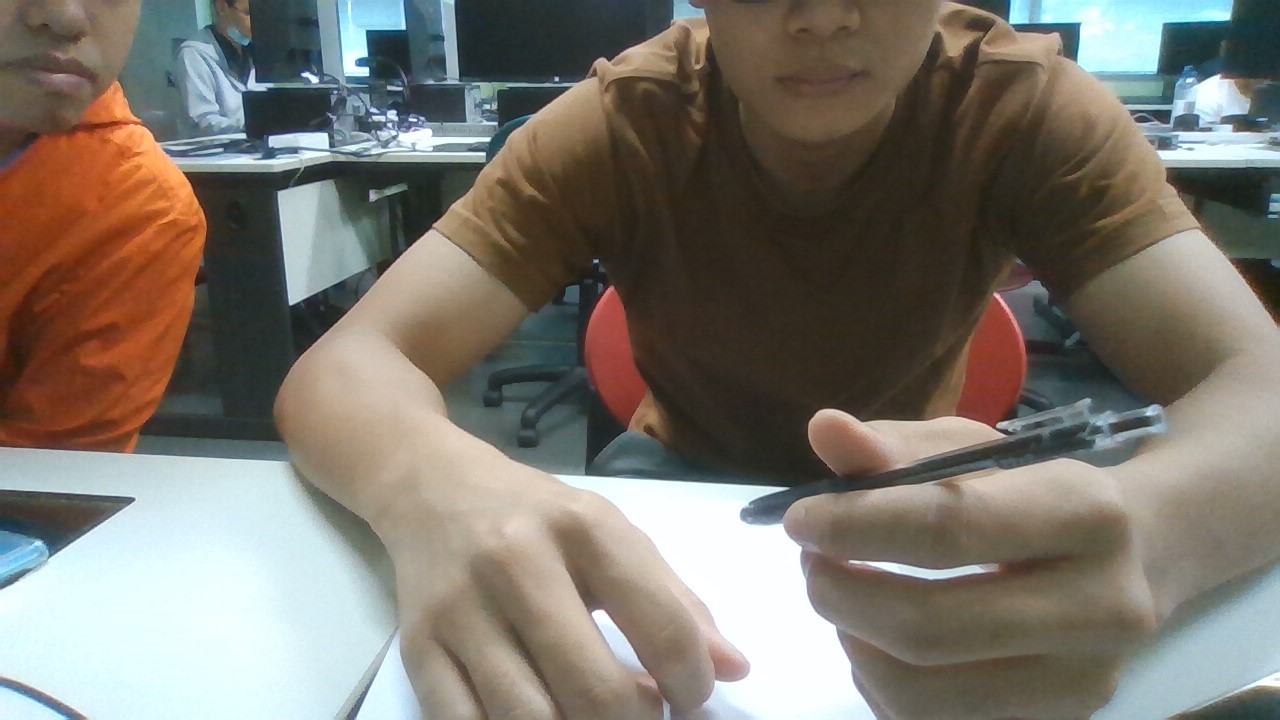pen: (738, 402, 1163, 524)
